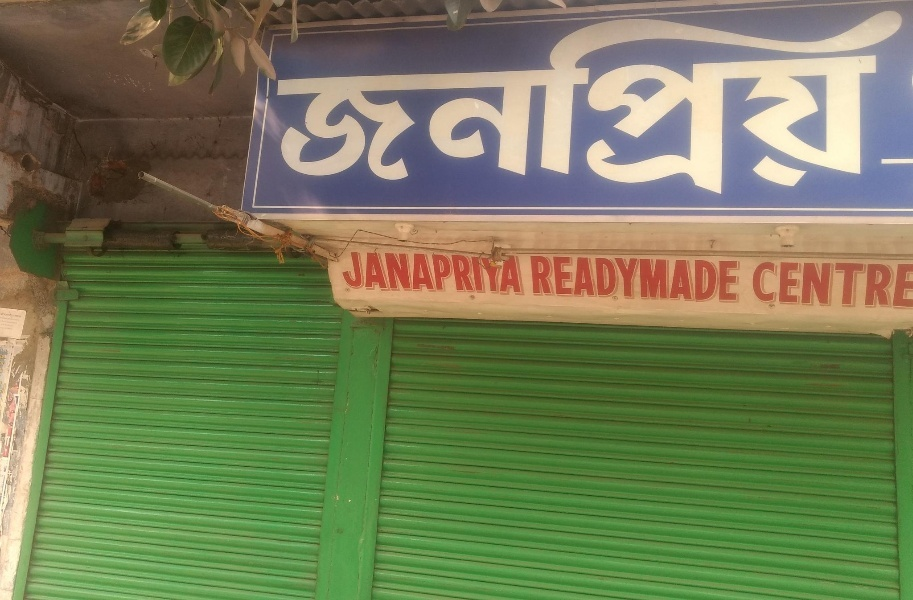text: (289, 4, 304, 198), (305, 4, 320, 198), (321, 4, 336, 198), (337, 4, 352, 198), (353, 4, 368, 198), (369, 4, 384, 198), (385, 4, 400, 198), (401, 4, 416, 198), (417, 4, 432, 198), (433, 4, 448, 198), (449, 4, 464, 198), (465, 4, 480, 198), (481, 4, 496, 198), (497, 4, 512, 198), (513, 4, 528, 198), (529, 4, 544, 198), (545, 4, 560, 198), (561, 4, 576, 198), (577, 4, 592, 198), (593, 4, 608, 198), (609, 4, 624, 198), (625, 4, 640, 198), (641, 4, 656, 198), (657, 4, 672, 198), (673, 4, 688, 198), (689, 4, 704, 198), (705, 4, 720, 198), (721, 4, 736, 198), (737, 4, 752, 198), (753, 4, 768, 198), (769, 4, 784, 198), (785, 4, 800, 198), (801, 4, 816, 198), (817, 4, 832, 198), (833, 4, 848, 198), (849, 4, 864, 198), (865, 4, 880, 198), (881, 4, 896, 198), (897, 4, 909, 198), (280, 4, 288, 198), (897, 255, 913, 312), (753, 255, 768, 312), (769, 255, 784, 312), (785, 255, 800, 312), (801, 255, 816, 312), (817, 255, 832, 312), (833, 255, 848, 312), (849, 255, 864, 312), (865, 255, 880, 312), (881, 255, 896, 312), (353, 243, 368, 298), (369, 243, 384, 298), (385, 243, 400, 298), (401, 243, 416, 298), (417, 243, 432, 298), (433, 243, 448, 298), (449, 243, 464, 298), (465, 243, 480, 298), (481, 243, 496, 298), (497, 243, 512, 298), (513, 243, 528, 298), (545, 253, 560, 307), (561, 253, 576, 307), (577, 253, 592, 307), (593, 253, 608, 307), (609, 253, 624, 307), (625, 253, 640, 307), (641, 253, 656, 307), (657, 253, 672, 307), (673, 253, 688, 307), (689, 253, 704, 307), (705, 253, 720, 307), (721, 253, 736, 307), (530, 253, 544, 307), (339, 243, 352, 298), (737, 253, 743, 307), (750, 255, 752, 312)
